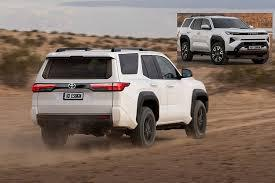toyota: (66, 81, 77, 89), (248, 31, 259, 37)
